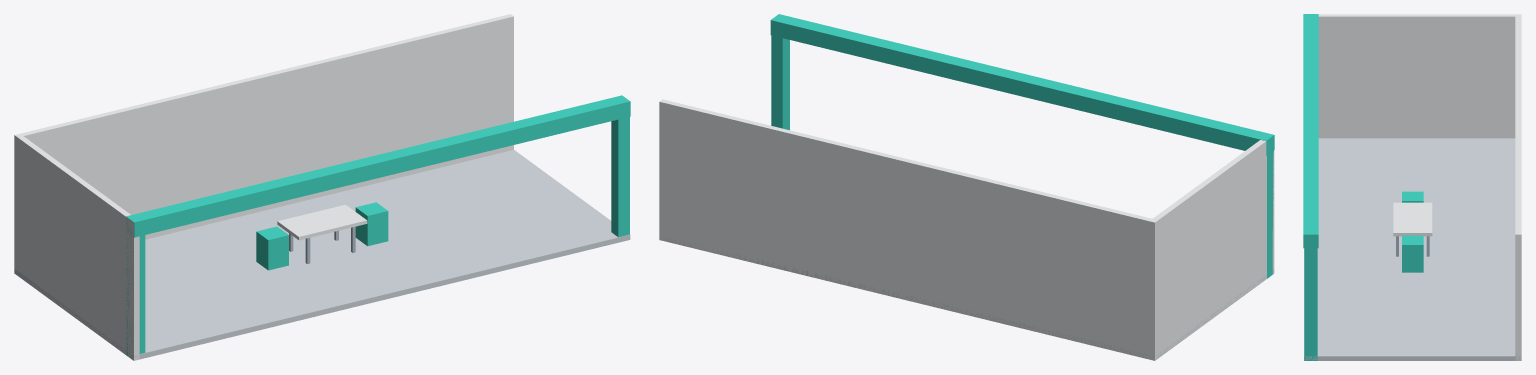
3 renders of one model, left to right at view 1: azimuth 30°, elevation 25°; view 2: azimuth 150°, elevation 25°; view 3: azimuth 270°, elevation 25°, orthographic. The views are drawn at different scales.
Parts seen in each view (by area): view 1: Exhibition Booth Concept; view 2: Exhibition Booth Concept; view 3: Exhibition Booth Concept.
Boxes of the visible parts, x1,y1,x2,y2 form: Exhibition Booth Concept: [14, 14, 630, 360]; Exhibition Booth Concept: [659, 14, 1274, 360]; Exhibition Booth Concept: [1303, 14, 1521, 360].
Bounding box in the file's own units: 12 × 3.2 × 5.02.
